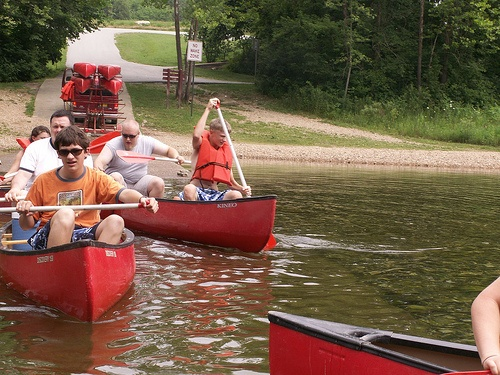head: (55, 126, 91, 174), (113, 115, 147, 153), (206, 115, 234, 152)
person: (19, 128, 148, 248), (94, 115, 181, 201), (181, 96, 246, 201), (2, 113, 74, 193)
